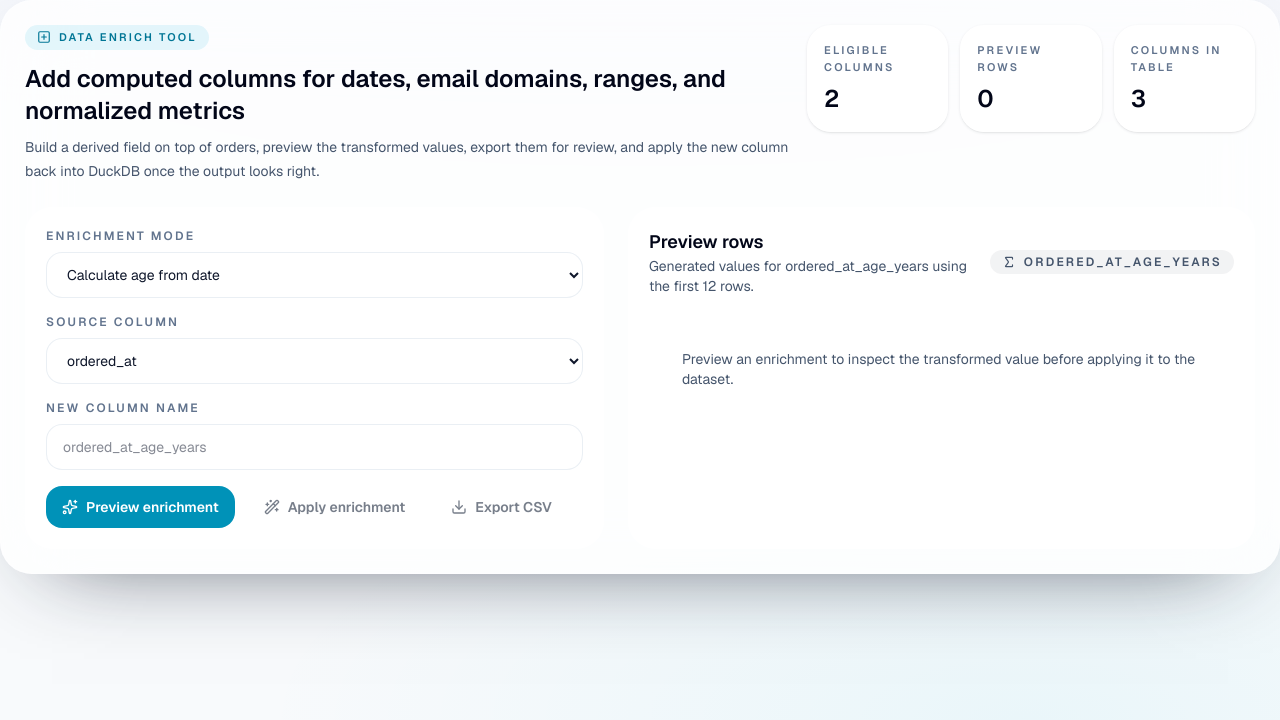
Test: DataEnrichTool › applies the enrichment back into DuckDB
Step 1. Click the button "Preview enrichment" → (140, 507), box [46,486,235,528]
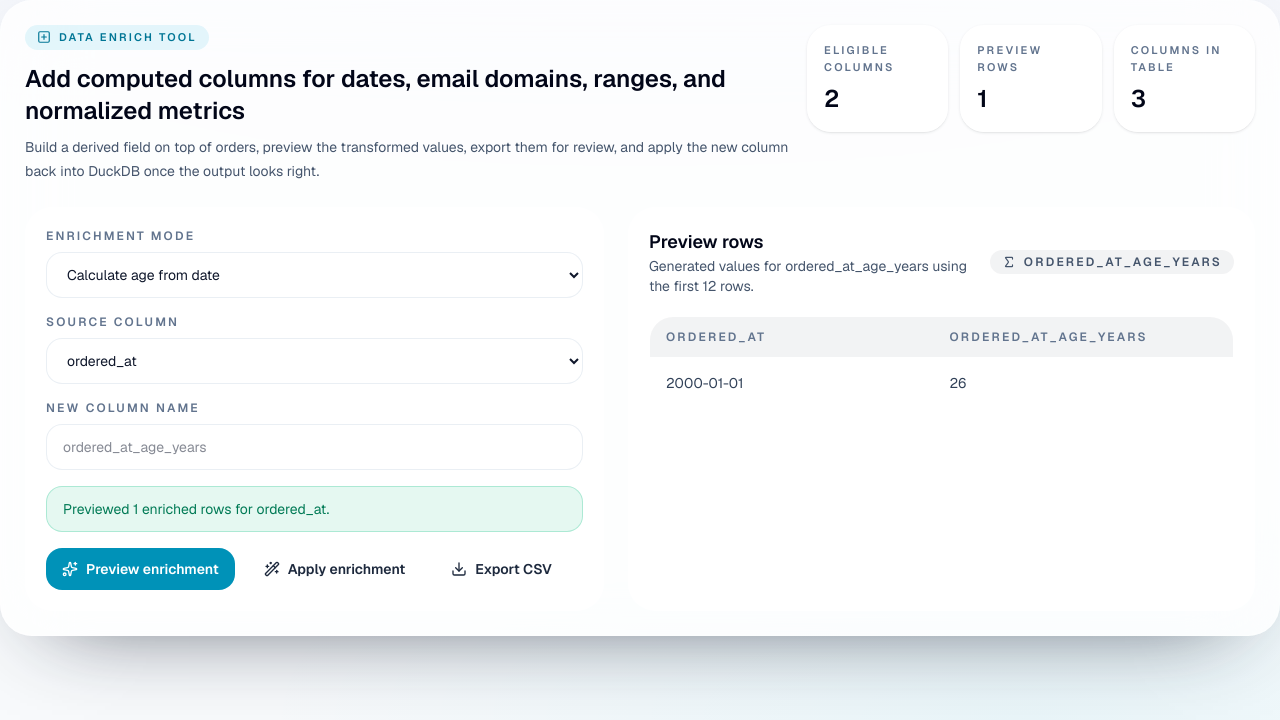
Expected: the text "Previewed 1 enriched rows for ordered_at." is shown, [46,486,583,532]
Step 2. Click the button "Apply enrichment" → (335, 569), box [247,548,422,590]
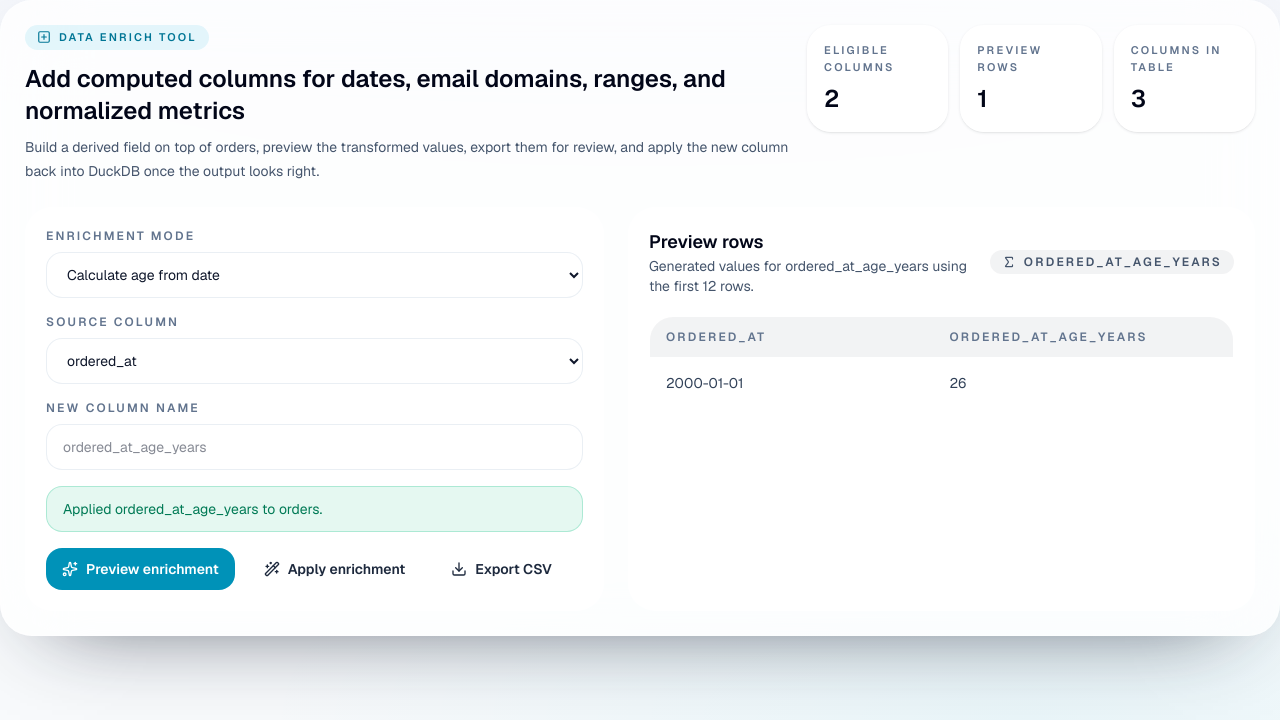
Expected: the text "Applied ordered_at_age_years to orders." is shown, [46,486,583,532]
